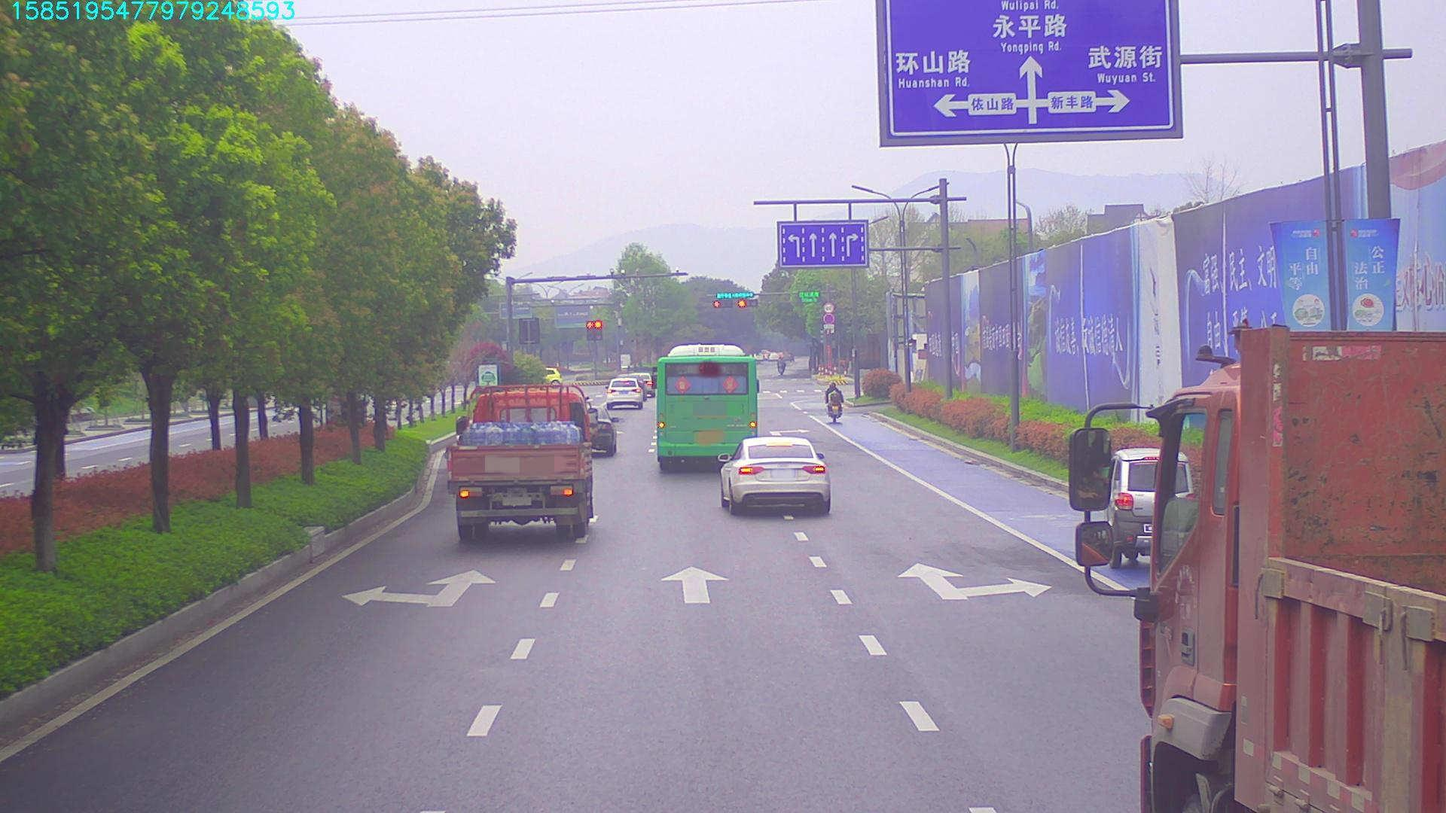red: (734, 301, 755, 310), (709, 300, 728, 306)
wait_on: (713, 288, 752, 297)
